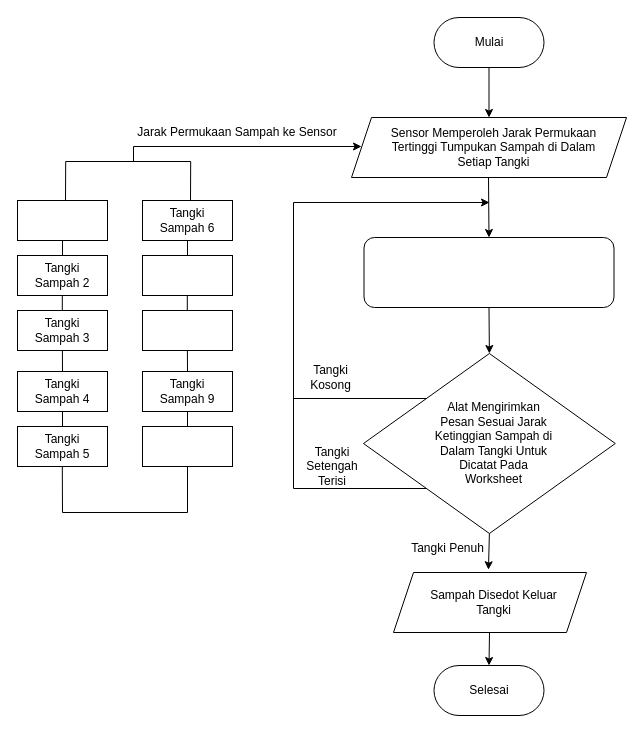
Some shapes in this 644 by 733 pixel diagram are drawn without their labels. The shapes that lost their labels are listed below. From the top down, each one's centre as x and y in pixels, then its label:
At (x=62, y=220): "Tangki Sampah 1".
At (x=187, y=275): "Tangki Sampah 7".
At (x=488, y=272): "Alat Mengklasifikasikan Kondisi Volume Sampah Dalam Tangki".
At (x=187, y=330): "Tangki Sampah 8".
At (x=187, y=446): "Tangki Sampah 10".
